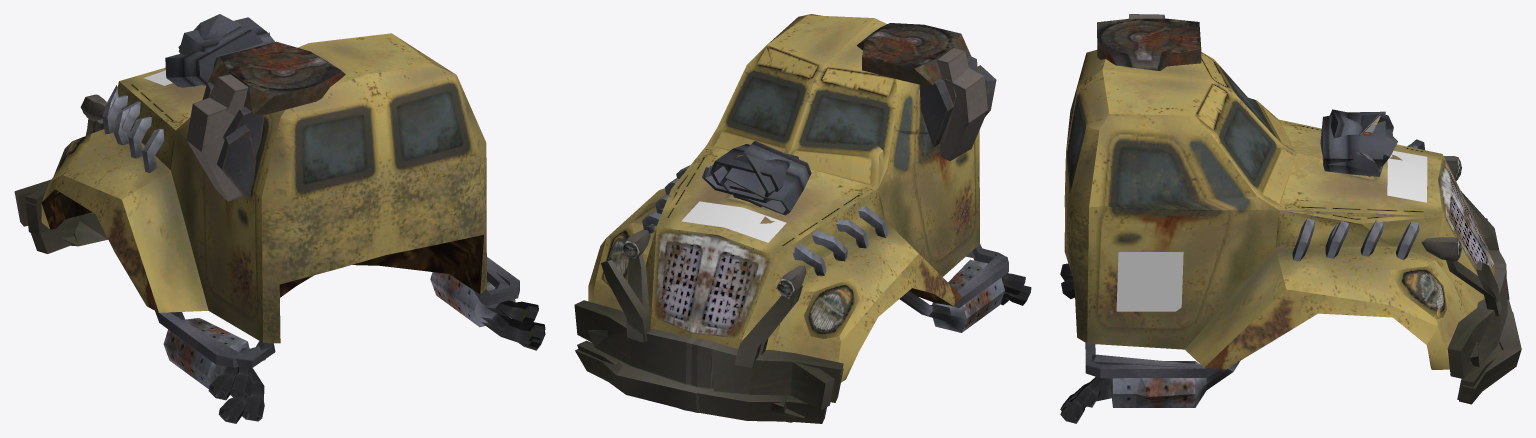
Rendered from cab02.fbx.
3 views of the same model, side by side, from view 1: azimuth 30°, elevation 25°; view 2: azimuth 150°, elevation 25°; view 3: azimuth 270°, elevation 25° (orthographic). The views are drawn at different scales.
Parts seen in each view (by area): view 1: polySurface21_1, polySurface15_1, polySurface8_1, polySurface12_3, polySurface20_1, polySurface16_1, polySurface20_2, pasted__polySurface1709_2, polySurface2_1, polySurface12_1, polySurface10_3, polySurface16_2 (+7 smaller); view 2: polySurface8_1, polySurface21_1, polySurface9_1, polySurface10_1, polySurface15_1, polySurface10_2, polySurface21_3, polySurface20_1, polySurface12_3, pasted__polySurface1709_2, polySurface12_1, logo1_1 (+10 smaller); view 3: polySurface15_1, polySurface9_1, polySurface15_2, polySurface21_1, logo1_1, polySurface15_3, polySurface16_1, polySurface9_2, polySurface8_1, polySurface10_1, polySurface16_2, polySurface10_2 (+5 smaller).
Boxes of the visible parts, x1,y1,x2,y2 form: polySurface21_1: (171,41,386,343); polySurface15_1: (309,33,486,294); polySurface8_1: (41,67,208,312); polySurface12_3: (186,97,255,201); polySurface20_1: (155,311,273,423); polySurface16_1: (430,257,545,350); polySurface20_2: (171,313,275,421); pasted__polySurface1709_2: (165,26,262,87); polySurface2_1: (102,95,164,172); polySurface12_1: (202,74,264,157); polySurface10_3: (14,179,107,246); polySurface16_2: (481,263,545,345); polySurface8_1: (692,169,962,382); polySurface21_1: (813,18,979,302); polySurface9_1: (588,145,747,342); polySurface10_1: (574,300,843,423); polySurface15_1: (706,14,873,153); polySurface10_2: (575,330,843,422); polySurface21_3: (788,84,939,187); polySurface20_1: (899,244,1031,332); polySurface12_3: (939,65,996,160); pasted__polySurface1709_2: (720,141,811,215); polySurface12_1: (919,48,977,147); logo1_1: (681,201,786,242); polySurface15_1: (1064,70,1296,349); polySurface9_1: (1185,153,1501,369); polySurface15_2: (1089,70,1278,349); polySurface21_1: (1064,18,1247,209); logo1_1: (1116,150,1427,311); polySurface15_3: (1090,115,1273,348); polySurface16_1: (1060,342,1239,423); polySurface9_2: (1276,210,1501,304); polySurface8_1: (1279,119,1499,262); polySurface10_1: (1447,237,1512,401); polySurface16_2: (1060,353,1205,418); polySurface10_2: (1459,250,1521,404).
Bounding box in the file's own units: 2.68 × 2.4 × 3.46.
